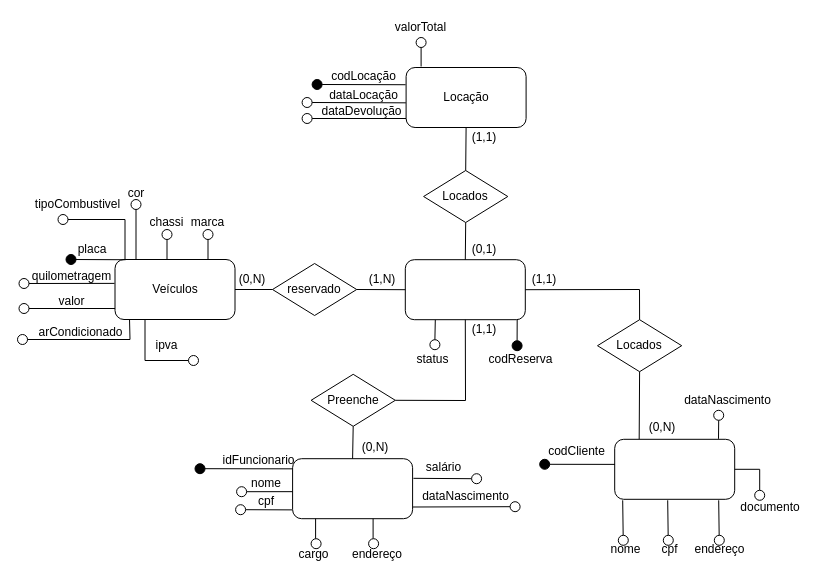
Image size: 818x582. Some labels were removed from this diagram. The shapes that lost their labels are listed below. From the top down, each one's centre as x and y in pixels, then its label:
At point (464, 289): "Reservas".
At point (352, 488): "Funcionários".
At point (674, 468): "Cliente".
